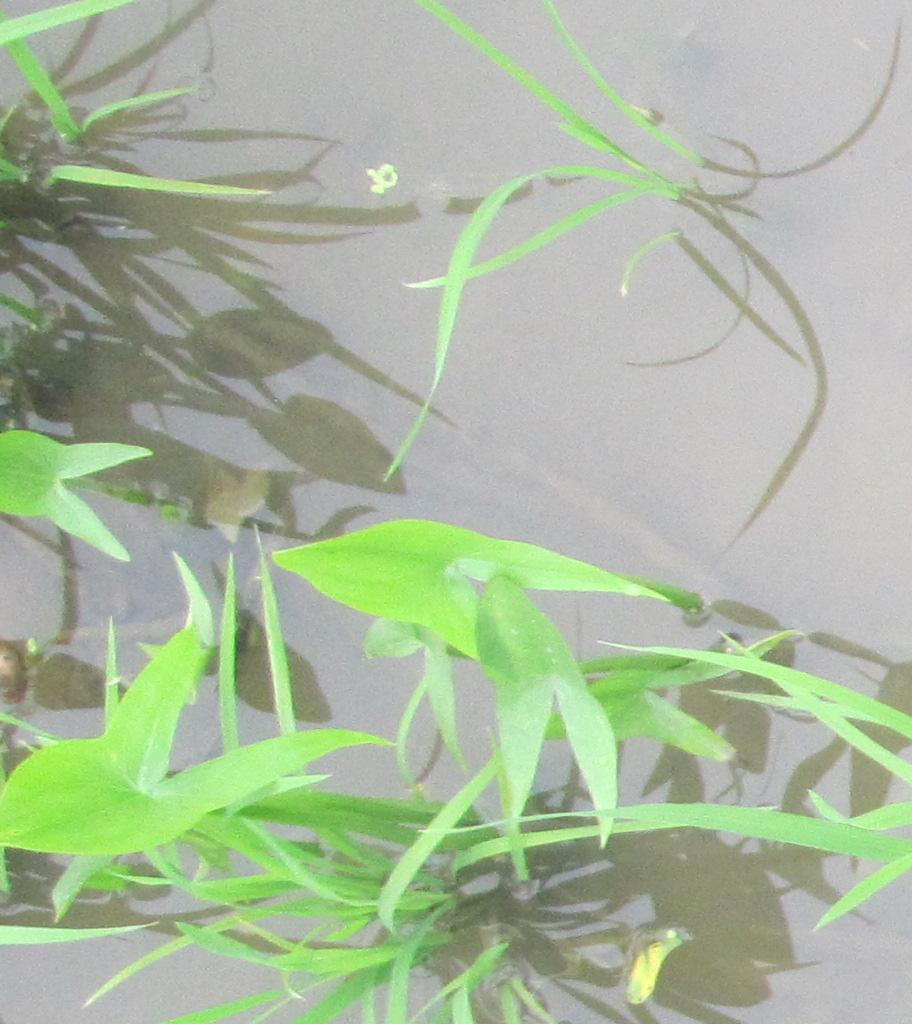Weed: (9, 630, 240, 857), (276, 516, 556, 647), (485, 653, 628, 832), (6, 419, 156, 567)
